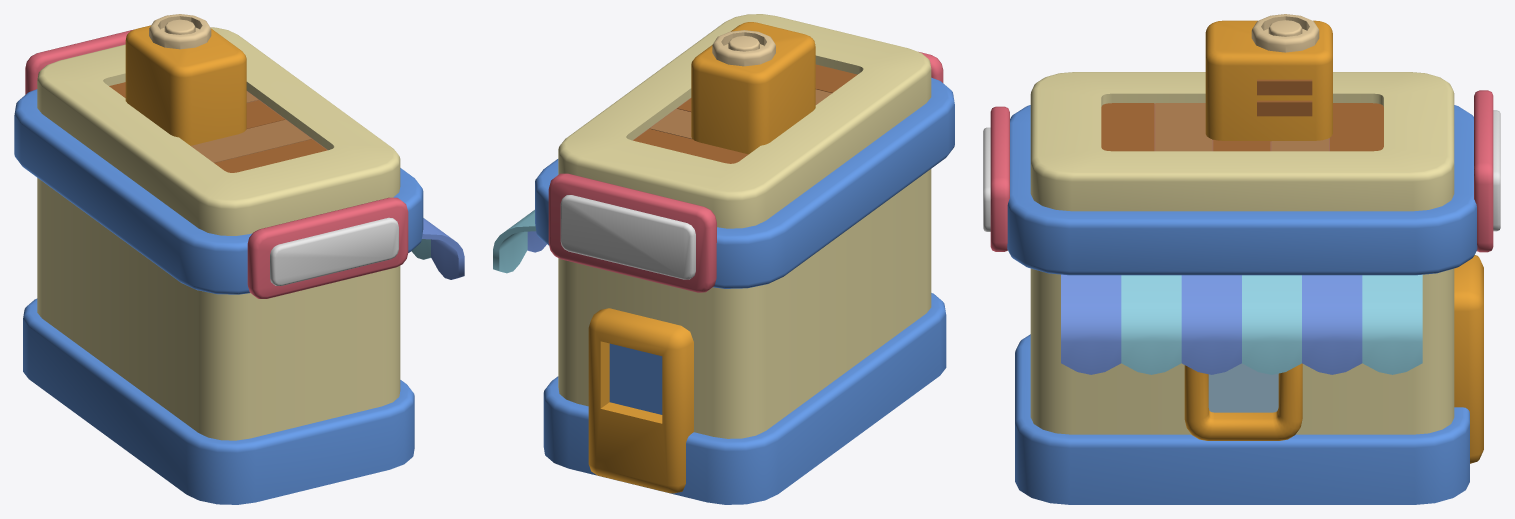
The model's file is Building.fbx.
3 views of the same model, side by side, from view 1: azimuth 30°, elevation 25°; view 2: azimuth 150°, elevation 25°; view 3: azimuth 270°, elevation 25° (orthographic). The views are drawn at different scales.
Visible parts, largest first — view 1: Cube.002, Cube.004, Cube.010, Cube.011, Cube.012, Plane.001, Cube.008; view 2: Cube.002, Cube.013, Cube.004, Cube.009, Cube.008, Cube.012, Plane.001; view 3: Cube.002, Plane.001, Cube.004, Cube.012, Cube.003, Cube.013, Cube.008, Cube.010, Cube.009, Cube.011.
Part boxes in pixels (x1,y1,x2,y2): Cube.002: (14, 27, 423, 504); Cube.004: (125, 14, 246, 145); Cube.010: (247, 197, 408, 298); Cube.011: (270, 217, 398, 285); Cube.012: (109, 82, 327, 172); Plane.001: (411, 218, 464, 279); Cube.008: (25, 29, 133, 94); Cube.002: (535, 14, 954, 504); Cube.013: (588, 308, 693, 493); Cube.004: (691, 22, 815, 154); Cube.009: (560, 195, 695, 279); Cube.008: (548, 173, 716, 292); Cube.012: (633, 64, 857, 163); Plane.001: (493, 210, 546, 273); Cube.002: (1007, 72, 1477, 504); Plane.001: (1061, 274, 1422, 374); Cube.004: (1205, 14, 1332, 141); Cube.012: (1101, 103, 1383, 151); Cube.003: (1184, 363, 1302, 440); Cube.013: (1454, 255, 1483, 463); Cube.008: (1474, 90, 1493, 252); Cube.010: (990, 106, 1009, 251); Cube.009: (1493, 110, 1500, 231); Cube.011: (983, 127, 990, 231).
Bounding box in the file's own units: 731 × 930 × 1066.
